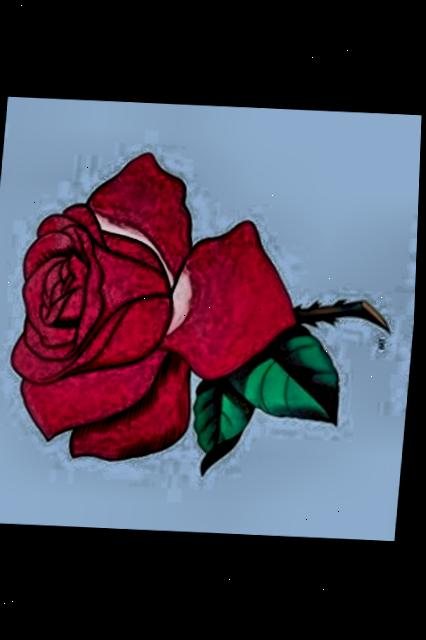La Rosa: (0, 96, 423, 543)
